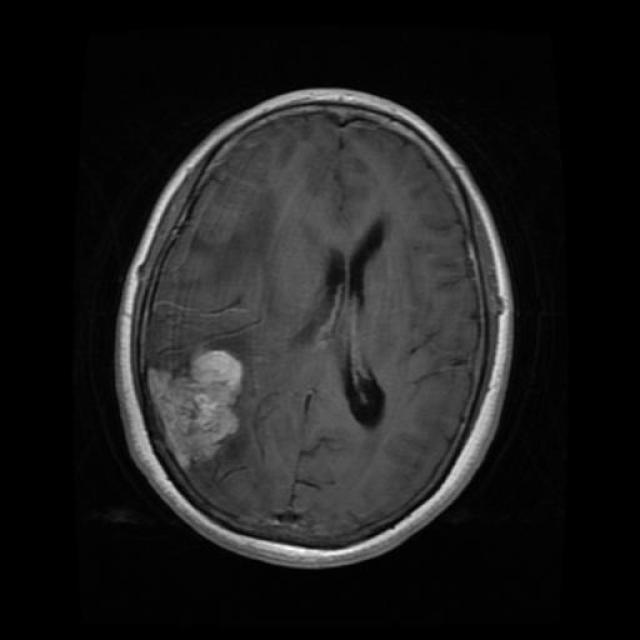Meningioma: (150, 350, 241, 471)
